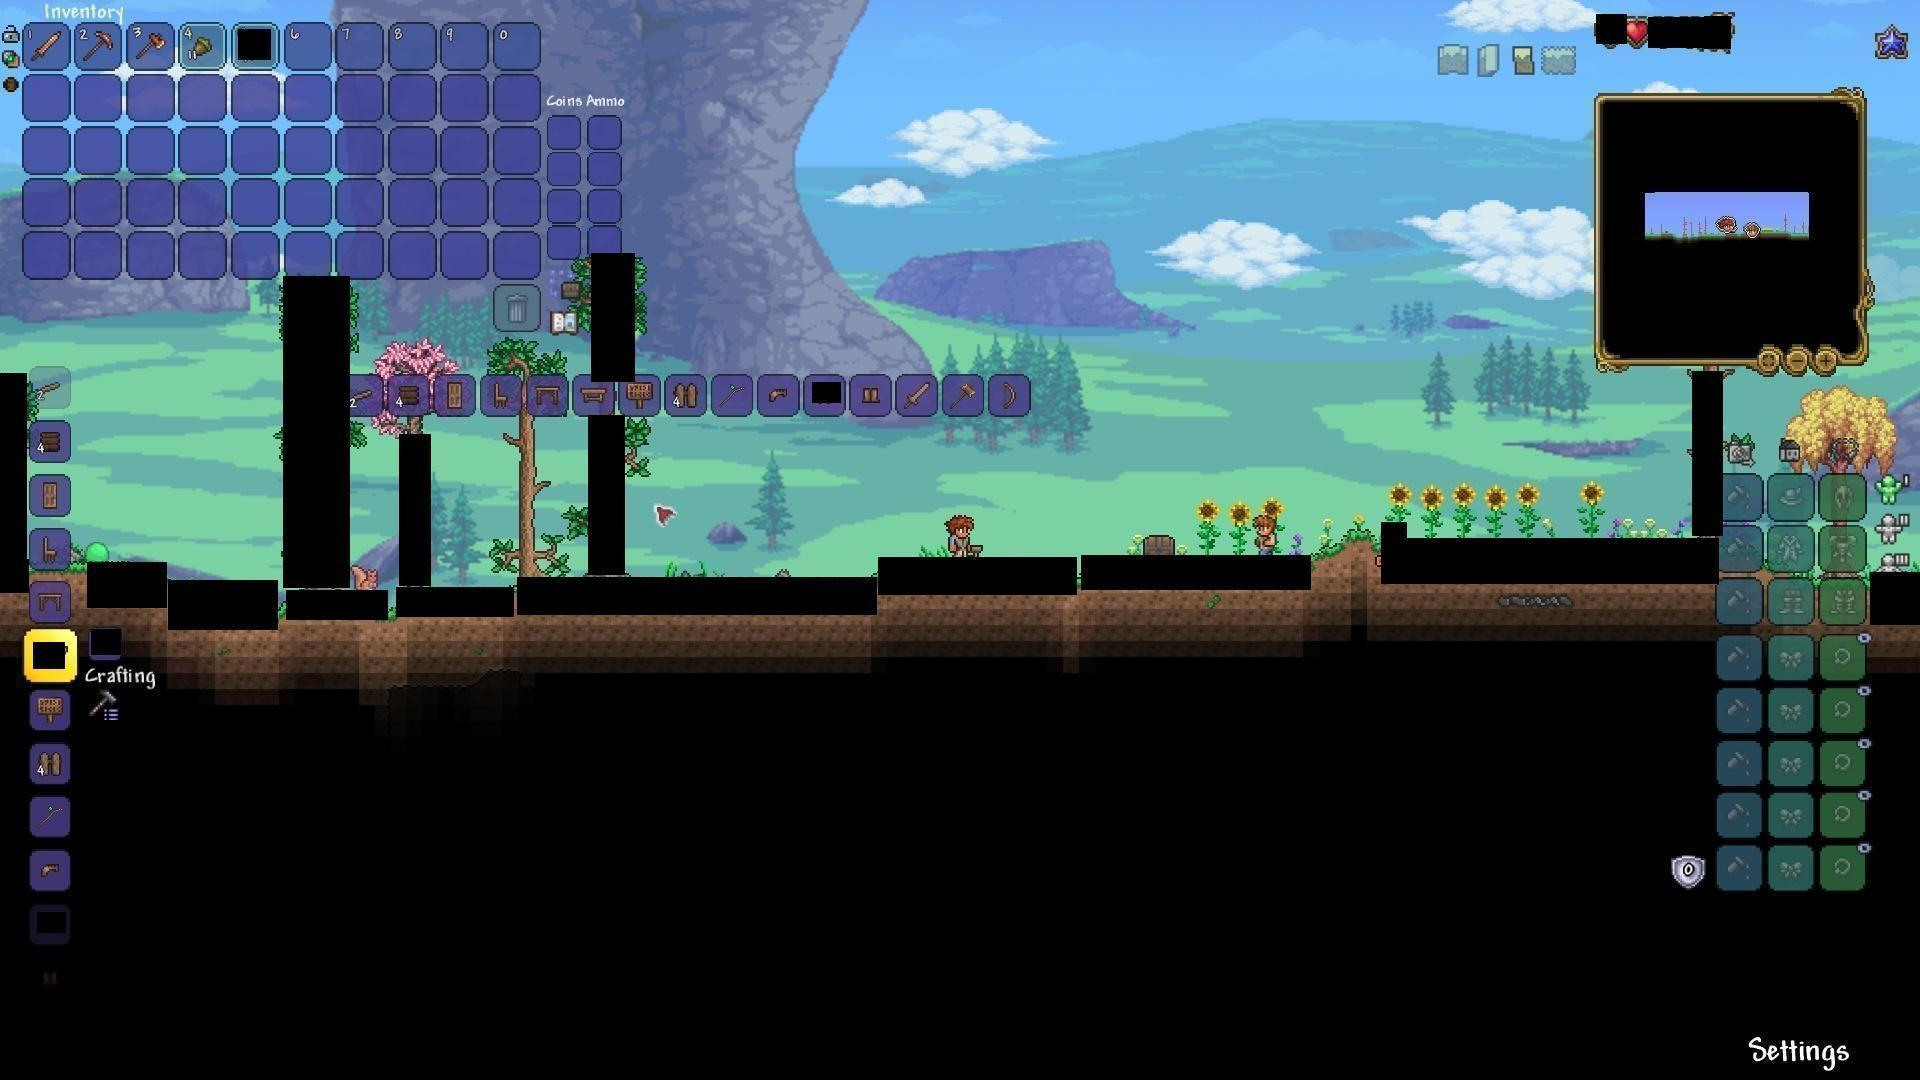dirt: (1313, 525, 1375, 574)
heart: (1625, 17, 1651, 46)
helmet: (33, 856, 65, 884), (762, 380, 793, 407)
legs: (857, 381, 882, 409)
slime: (82, 538, 107, 566)
tree: (498, 324, 556, 571)
workbench: (576, 384, 613, 409)
